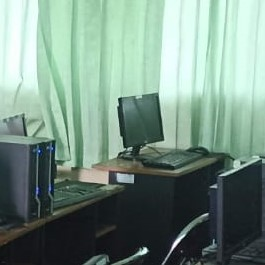monitor: (216, 156, 263, 261), (0, 134, 56, 222), (117, 92, 165, 149)
